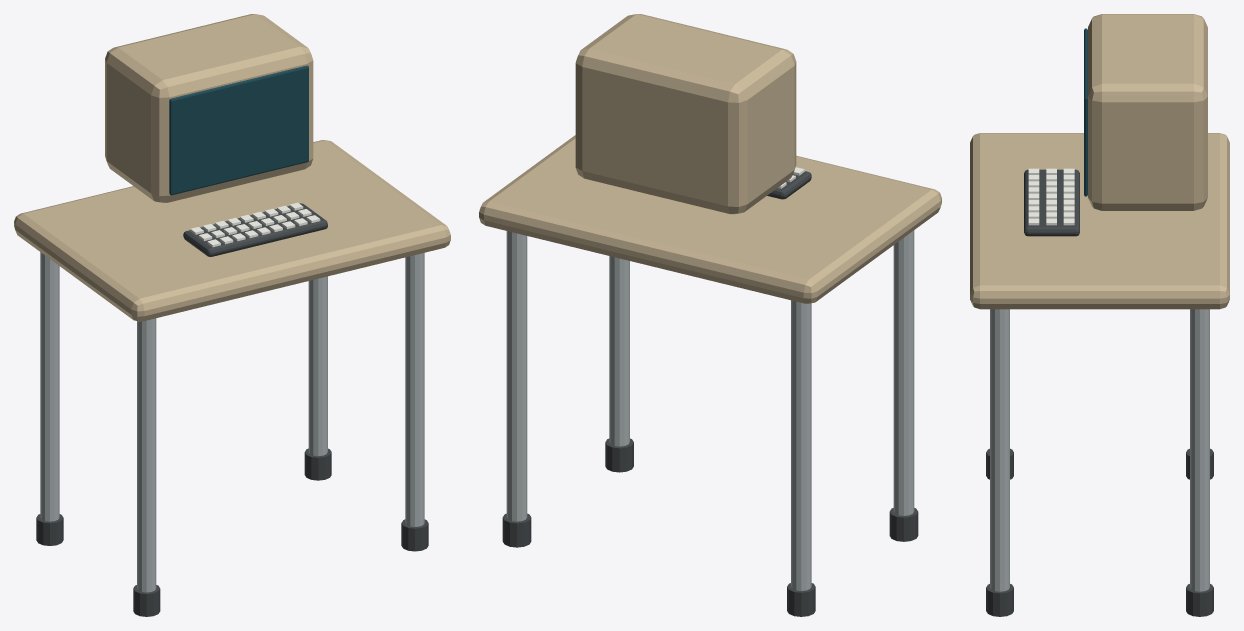
The model's file is workstation_starter.glb.
The picture shows the model from 3 angles, left to right: view 1: azimuth 30°, elevation 25°; view 2: azimuth 150°, elevation 25°; view 3: azimuth 270°, elevation 25°; orthographic projection. The views are drawn at different scales.
Parts seen in each view (by area): view 1: STATIC_beige.002, STATIC_metal.008, STATIC_screen.002, STATIC_rubber.008, STATIC_white.006; view 2: STATIC_beige.002, STATIC_metal.008, STATIC_rubber.008; view 3: STATIC_beige.002, STATIC_metal.008, STATIC_rubber.008, STATIC_white.006, STATIC_screen.002.
Boxes of the visible parts, box(x1,y1,x2,y2) form: STATIC_beige.002: box(14, 14, 450, 321); STATIC_metal.008: box(40, 252, 424, 592); STATIC_screen.002: box(169, 65, 308, 195); STATIC_rubber.008: box(36, 203, 428, 616); STATIC_white.006: box(190, 202, 320, 247); STATIC_beige.002: box(479, 14, 941, 303); STATIC_metal.008: box(506, 230, 914, 590); STATIC_rubber.008: box(502, 171, 918, 616); STATIC_beige.002: box(970, 14, 1229, 309); STATIC_metal.008: box(990, 309, 1209, 591); STATIC_rubber.008: box(986, 169, 1213, 616); STATIC_white.006: box(1028, 168, 1074, 225); STATIC_screen.002: box(1084, 28, 1087, 196).
Size of the model in its own units: 0.95 by 1.37 by 0.65.
